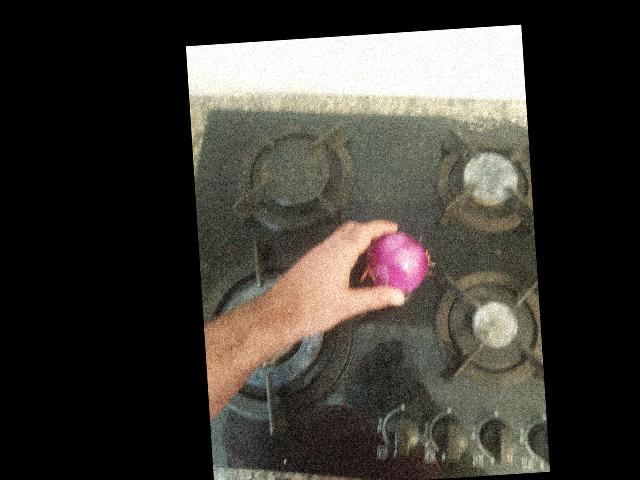onion: (391, 139, 463, 209)
